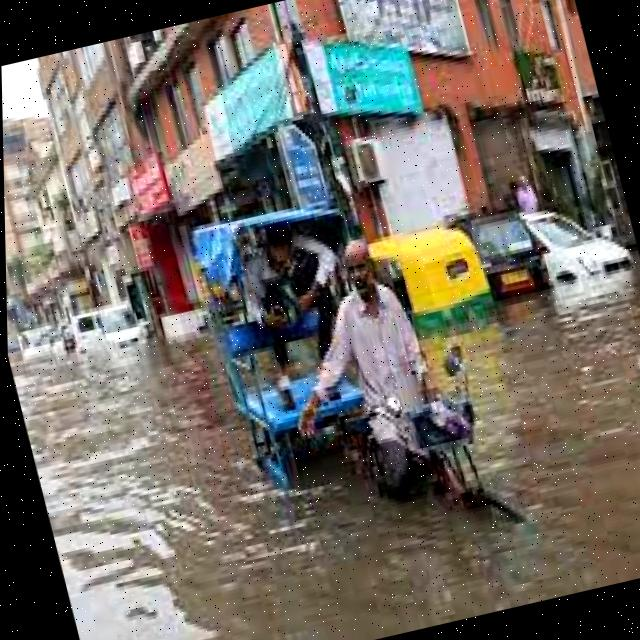civilian: (251, 217, 477, 508)
